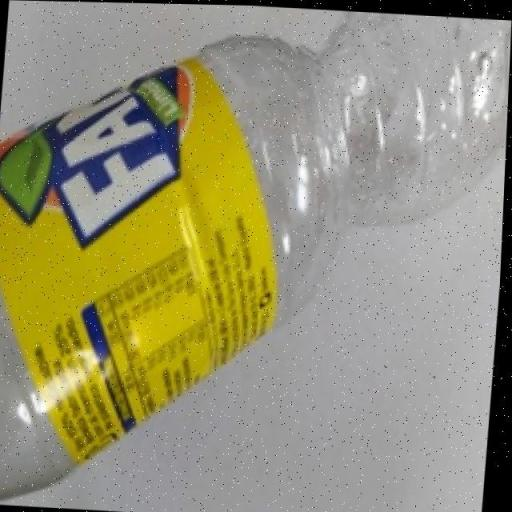plastic: (0, 0, 506, 503)
